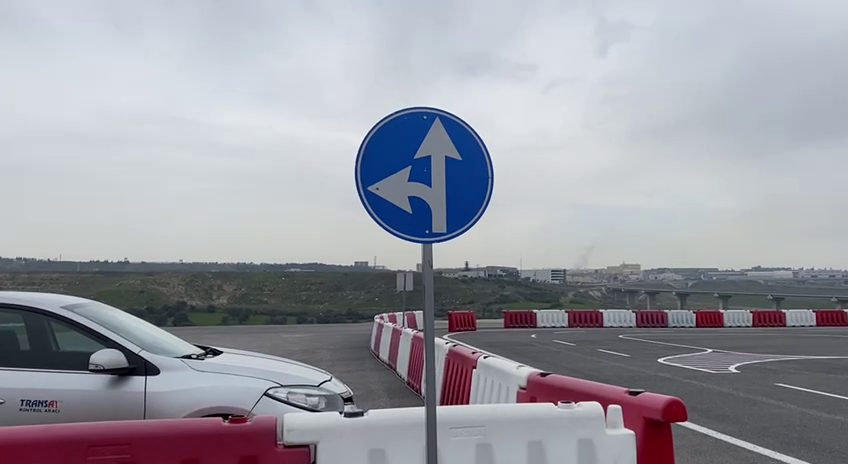forwardAndLeft: (351, 104, 498, 247)
